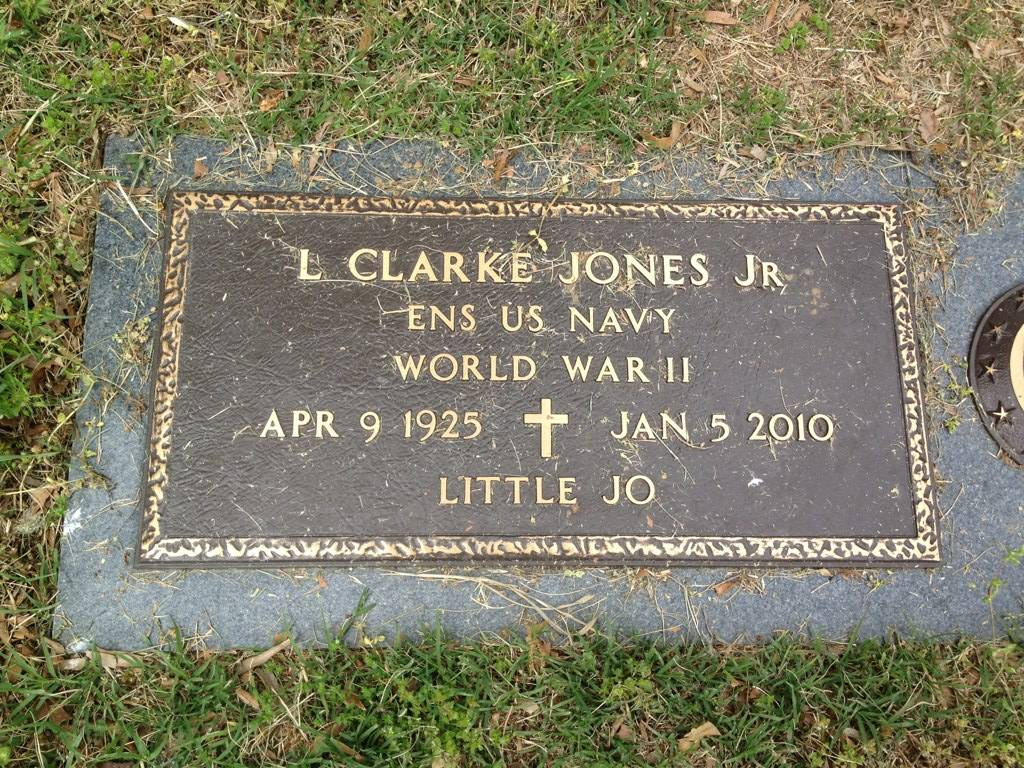flat: (141, 188, 936, 565)
